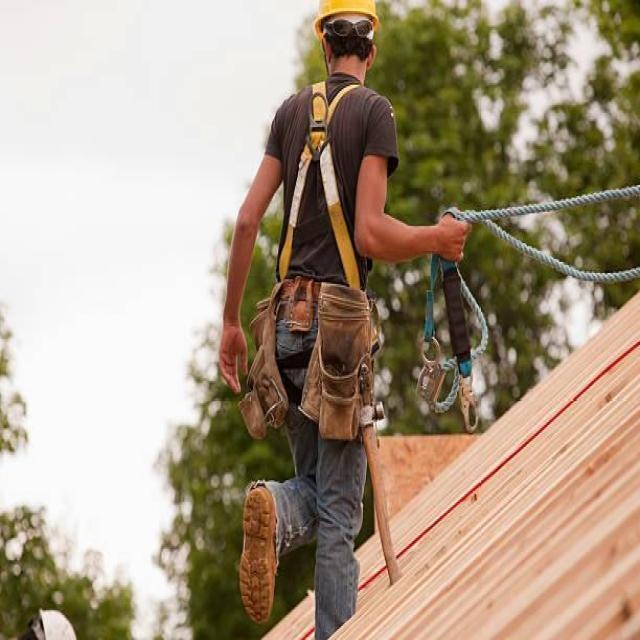Arnes_seguridad: (270, 79, 391, 422)
